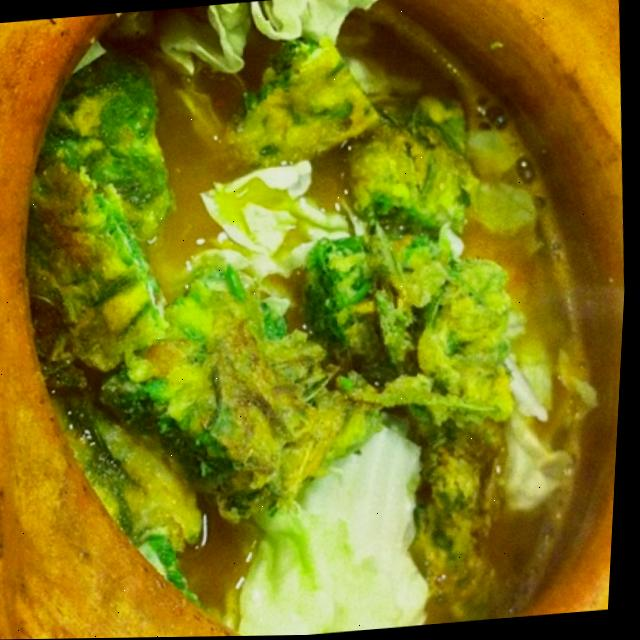汤锅炖物: (0, 0, 625, 640)
